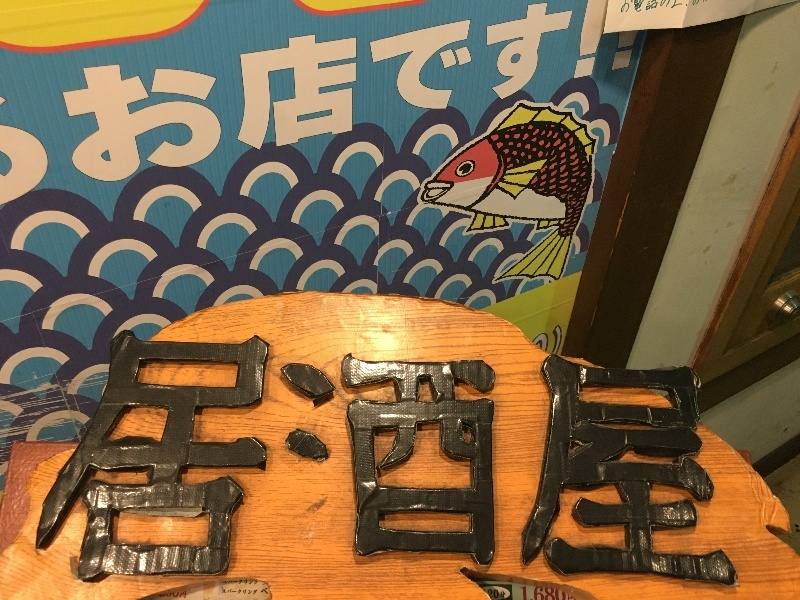text: (33, 324, 48, 590), (49, 324, 64, 590), (65, 324, 80, 590), (81, 324, 96, 590), (97, 324, 112, 590), (113, 324, 128, 590), (129, 324, 144, 590), (145, 324, 160, 590), (161, 324, 176, 590), (177, 324, 192, 590), (193, 324, 208, 590), (209, 324, 224, 590), (225, 324, 240, 590), (241, 324, 256, 590), (257, 324, 272, 590), (273, 324, 288, 590), (289, 324, 304, 590), (305, 324, 320, 590), (321, 324, 336, 590), (337, 324, 352, 590), (353, 324, 368, 590), (369, 324, 384, 590), (385, 324, 400, 590), (401, 324, 416, 590), (417, 324, 432, 590), (433, 324, 448, 590), (449, 324, 464, 590), (465, 324, 480, 590), (481, 324, 496, 590), (497, 324, 512, 590), (513, 324, 528, 590), (529, 324, 544, 590), (545, 324, 560, 590), (561, 324, 576, 590), (577, 324, 592, 590), (593, 324, 608, 590), (609, 324, 624, 590), (625, 324, 640, 590), (641, 324, 656, 590), (657, 324, 672, 590), (673, 324, 688, 590), (689, 324, 704, 590), (705, 324, 720, 590), (721, 324, 736, 590), (49, 1, 64, 196), (65, 1, 80, 196), (81, 1, 96, 196), (97, 1, 112, 196), (113, 1, 128, 196), (129, 1, 144, 196), (145, 1, 160, 196), (161, 1, 176, 196), (177, 1, 192, 196), (193, 1, 208, 196), (209, 1, 224, 196), (225, 1, 240, 196), (241, 1, 256, 196), (257, 1, 272, 196), (273, 1, 288, 196), (289, 1, 304, 196), (305, 1, 320, 196), (321, 1, 336, 196), (337, 1, 352, 196), (353, 1, 368, 196), (369, 1, 384, 196), (385, 1, 400, 196), (401, 1, 416, 196), (417, 1, 432, 196), (433, 1, 448, 196), (449, 1, 464, 196), (465, 1, 480, 196), (481, 1, 496, 196), (497, 1, 512, 196), (513, 1, 528, 196), (529, 1, 544, 196), (545, 1, 560, 196), (561, 1, 576, 196), (577, 1, 592, 196), (593, 1, 608, 196), (737, 324, 742, 590), (609, 1, 615, 196), (29, 324, 32, 590), (625, 2, 640, 19), (641, 2, 656, 19), (657, 2, 672, 19), (673, 2, 688, 19), (529, 586, 544, 600), (545, 586, 560, 600), (561, 586, 576, 600), (689, 2, 700, 19), (161, 592, 176, 600), (225, 588, 240, 596), (241, 588, 256, 596), (483, 590, 496, 599), (520, 586, 528, 600), (257, 588, 269, 596), (497, 590, 507, 599), (177, 592, 187, 600), (225, 581, 240, 586), (241, 581, 256, 586), (621, 2, 624, 19), (223, 588, 224, 596), (257, 581, 258, 586)
